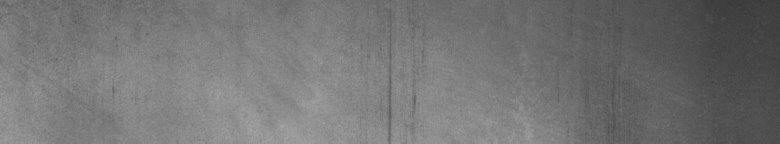ka: (385, 44, 416, 136)
